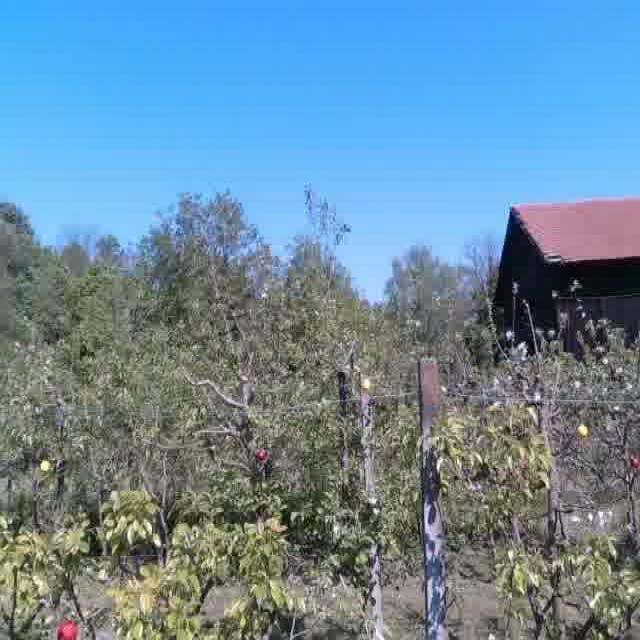red: (52, 615, 82, 640), (625, 452, 640, 474), (253, 446, 270, 462)
yellow: (358, 374, 374, 392), (574, 423, 591, 439), (38, 458, 54, 473)
